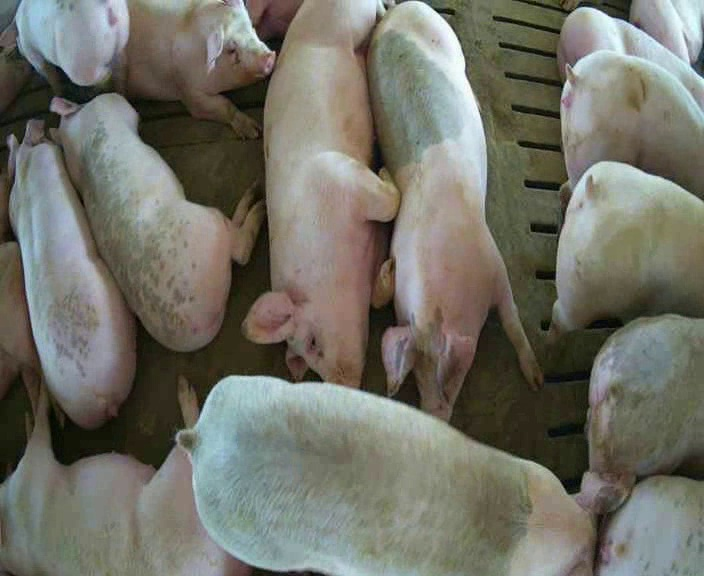pig: (178, 376, 635, 573), (368, 2, 542, 420), (242, 1, 399, 386), (48, 94, 263, 351), (8, 120, 135, 428), (549, 161, 703, 339), (560, 50, 703, 207), (126, 2, 274, 138), (588, 314, 703, 475), (557, 7, 703, 110), (597, 475, 703, 574), (630, 1, 703, 63)
